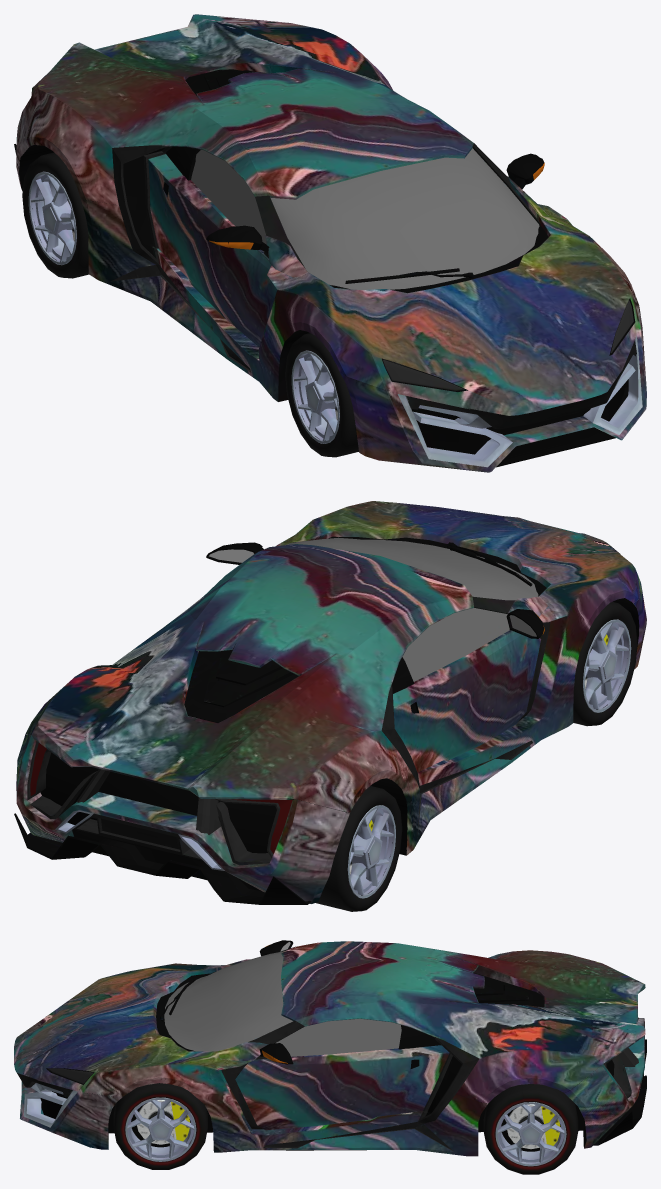
Rendered from vip1.glb.
The picture shows the model from 3 angles, top to bottom: view 1: azimuth 30°, elevation 25°; view 2: azimuth 150°, elevation 25°; view 3: azimuth 270°, elevation 25°; orthographic projection. The views are drawn at different scales.
Visible parts, largest first — view 1: object 2, object 3, object 1, WHEEL_wh_3_lux_1_other_lux_1_0, WHEEL_wh_4_lux_1_other_lux_1_0; view 2: object 2, object 1, object 3, WHEEL_wh_4_lux_1_other_lux_1_0, WHEEL_wh_3_lux_1_other_lux_1_0; view 3: object 2, object 3, object 1, WHEEL_wh_2_lux_1_other_lux_1_0, WHEEL_wh_1_lux_1_other_lux_1_0.
Boxes of the visible parts, x1,y1,x2,y2 form: object 2: (16, 14, 646, 472); object 3: (191, 148, 633, 390); object 1: (14, 69, 642, 467); WHEEL_wh_3_lux_1_other_lux_1_0: (285, 333, 358, 457); WHEEL_wh_4_lux_1_other_lux_1_0: (22, 152, 88, 278); object 2: (16, 501, 646, 903); object 1: (14, 536, 639, 904); object 3: (30, 537, 544, 853); WHEEL_wh_4_lux_1_other_lux_1_0: (315, 786, 402, 911); WHEEL_wh_3_lux_1_other_lux_1_0: (573, 602, 637, 726); object 2: (14, 941, 645, 1156); object 3: (48, 942, 401, 1083); object 1: (17, 940, 646, 1151); WHEEL_wh_2_lux_1_other_lux_1_0: (483, 1084, 578, 1174); WHEEL_wh_1_lux_1_other_lux_1_0: (113, 1083, 207, 1169).
Size of the model in its own units: 2.01 by 1.18 by 4.45.
Materials: 3 (3 with a texture image).
